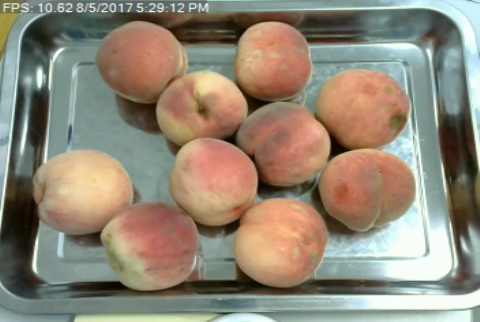Peach: (33, 148, 134, 235), (101, 202, 200, 288), (319, 147, 416, 232), (234, 197, 325, 287), (168, 138, 258, 224), (96, 20, 188, 104), (318, 66, 410, 149), (239, 101, 328, 186), (154, 70, 250, 146), (232, 19, 312, 100)
